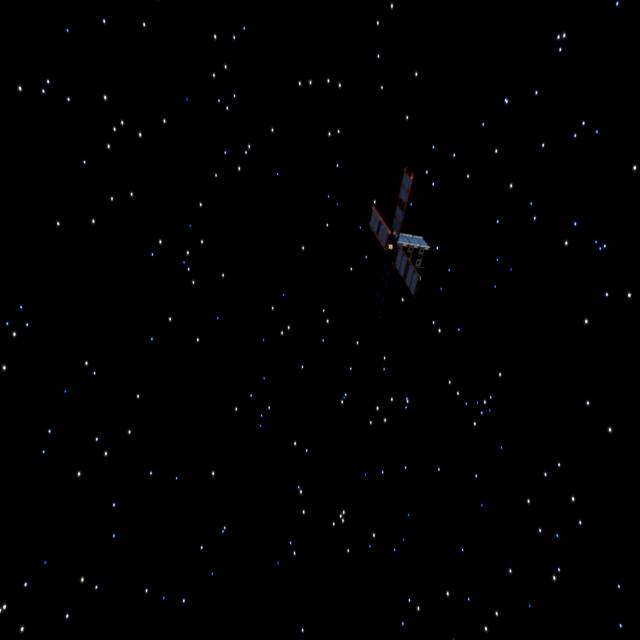medium_debris: (352, 164, 434, 330)
